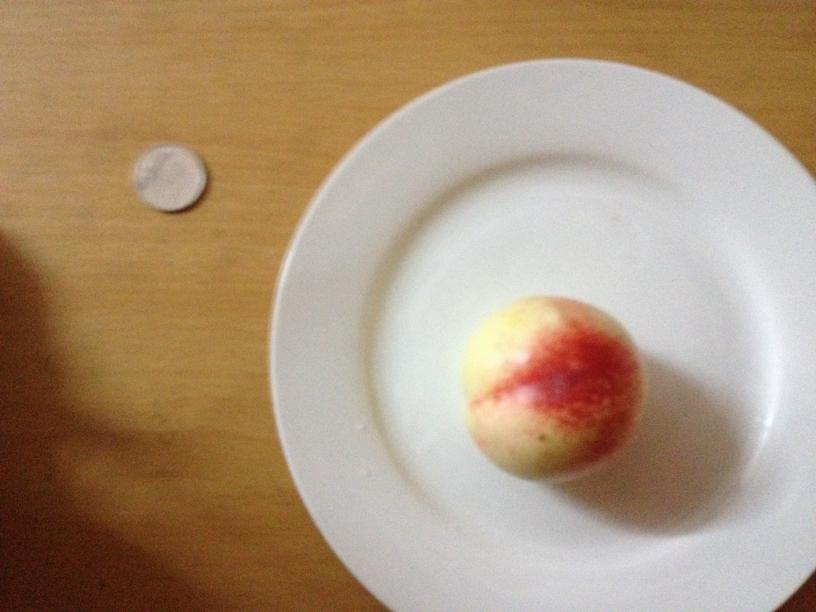coin: (132, 142, 206, 213)
peach: (458, 293, 640, 483)
